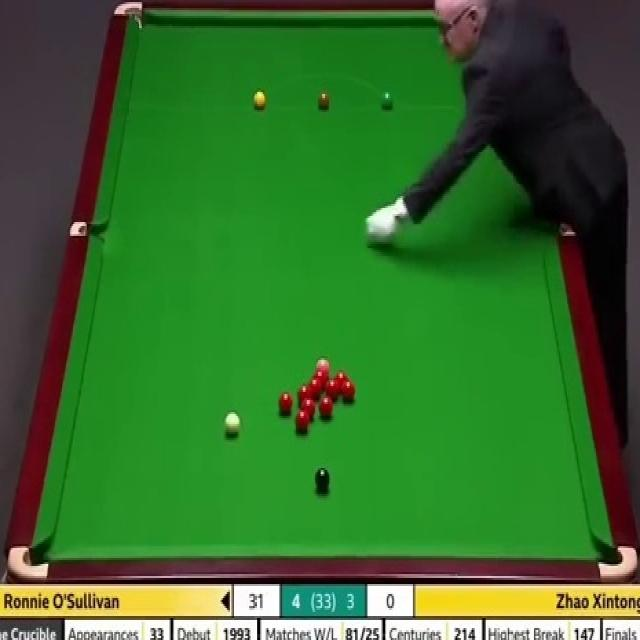pocket: (596, 543, 638, 583), (7, 543, 49, 580), (109, 0, 145, 34), (67, 220, 105, 235)
